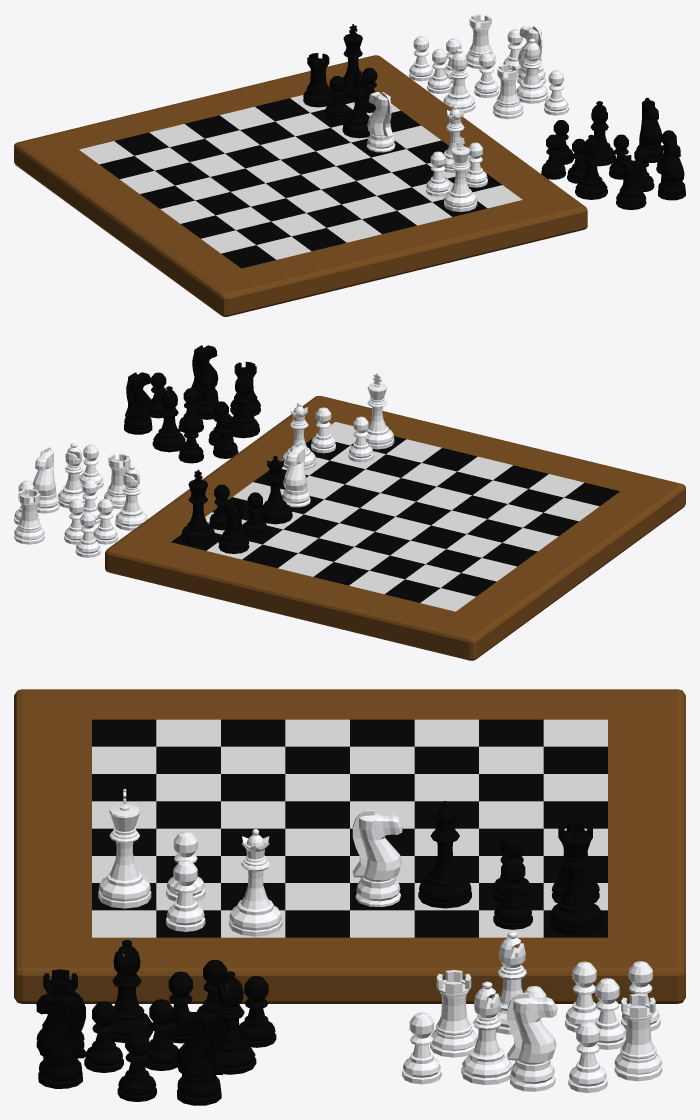
Rendered from chess.glb.
The picture shows the model from 3 angles, top to bottom: view 1: azimuth 30°, elevation 25°; view 2: azimuth 150°, elevation 25°; view 3: azimuth 270°, elevation 25°; orthographic projection. The views are drawn at different scales.
Visible parts, largest first — view 1: board, Rey_Circle.007, knight, Caballo_Circle.003, Alfil_Circle.003, Alfil_Circle.001, Torre_Circle.010, Torre_Circle.002, Torre_Circle.003, Alfil_Circle.011, queenB, Caballo_Circle.002 (+18 smaller); view 2: board, Caballo_Circle.002, Rey_Circle.001, knight, Rey_Circle.007, Alfil_Circle.002, queenB, Caballo_Circle.001, Torre_Circle.001, Alfil_Circle.011, Alfil_Circle.003, Torre_Circle.003 (+19 smaller); view 3: board, Caballo_Circle.001, Caballo_Circle.003, Caballo_Circle.002, knight, Rey_Circle.001, Rey_Circle.007, queenB, queen, Alfil_Circle.001, Torre_Circle.001, Torre_Circle.010 (+20 smaller).
Boxes of the visible parts, box(x1,y1,x2,y2) form: board: box(14, 55, 587, 316); Rey_Circle.007: box(444, 136, 477, 211); knight: box(366, 92, 395, 152); Caballo_Circle.003: box(658, 135, 685, 200); Alfil_Circle.003: box(575, 134, 607, 199); Alfil_Circle.001: box(516, 38, 548, 103); Torre_Circle.010: box(493, 64, 523, 119); Torre_Circle.002: box(616, 155, 646, 209); Torre_Circle.003: box(303, 53, 332, 107); Alfil_Circle.011: box(443, 48, 475, 113); queenB: box(342, 70, 369, 138); Caballo_Circle.002: box(636, 97, 663, 162); board: box(105, 396, 685, 660); Caballo_Circle.002: box(124, 372, 152, 434); Rey_Circle.001: box(181, 469, 215, 546); knight: box(282, 442, 310, 507); Rey_Circle.007: box(365, 373, 394, 449); Alfil_Circle.002: box(152, 386, 185, 452); queenB: box(259, 455, 292, 524); Caballo_Circle.001: box(33, 447, 59, 513); Torre_Circle.001: box(14, 488, 44, 544); Alfil_Circle.011: box(115, 465, 147, 530); Alfil_Circle.003: box(231, 372, 259, 438); Torre_Circle.003: box(218, 498, 249, 553); board: box(14, 689, 685, 1003); Caballo_Circle.001: box(507, 992, 557, 1091); Caballo_Circle.003: box(36, 990, 86, 1088); Caballo_Circle.002: box(175, 1007, 224, 1105); knight: box(352, 810, 402, 906); Rey_Circle.001: box(549, 815, 602, 935); Rey_Circle.007: box(98, 789, 151, 908); queenB: box(418, 801, 471, 908); queen: box(229, 829, 282, 936); Alfil_Circle.001: box(461, 981, 512, 1084); Torre_Circle.001: box(614, 993, 662, 1081); Torre_Circle.010: box(430, 970, 477, 1057).
Bounding box in the file's own units: 1.32 × 0.231 × 0.974.
